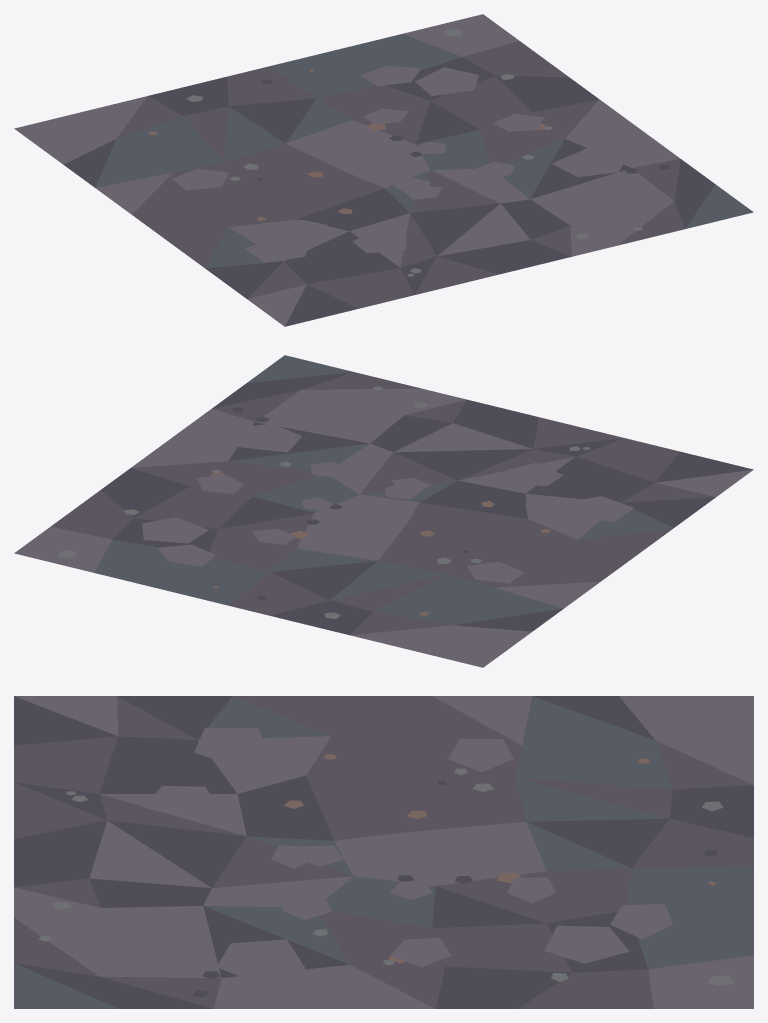
Rendered from 07_Quarry_Slate.fbx.
3 views of the same model, one above another, from view 1: azimuth 30°, elevation 25°; view 2: azimuth 150°, elevation 25°; view 3: azimuth 270°, elevation 25° (orthographic). The views are drawn at different scales.
Visible parts, largest first — view 1: 07_Quarry_Slate; view 2: 07_Quarry_Slate; view 3: 07_Quarry_Slate.
Boxes of the visible parts, x1,y1,x2,y2 form: 07_Quarry_Slate: [14, 14, 753, 326]; 07_Quarry_Slate: [14, 355, 753, 667]; 07_Quarry_Slate: [14, 696, 753, 1008].
Bounding box in the file's own units: 800 × 1.2 × 800.
Materials: 1 (1 with a texture image).
